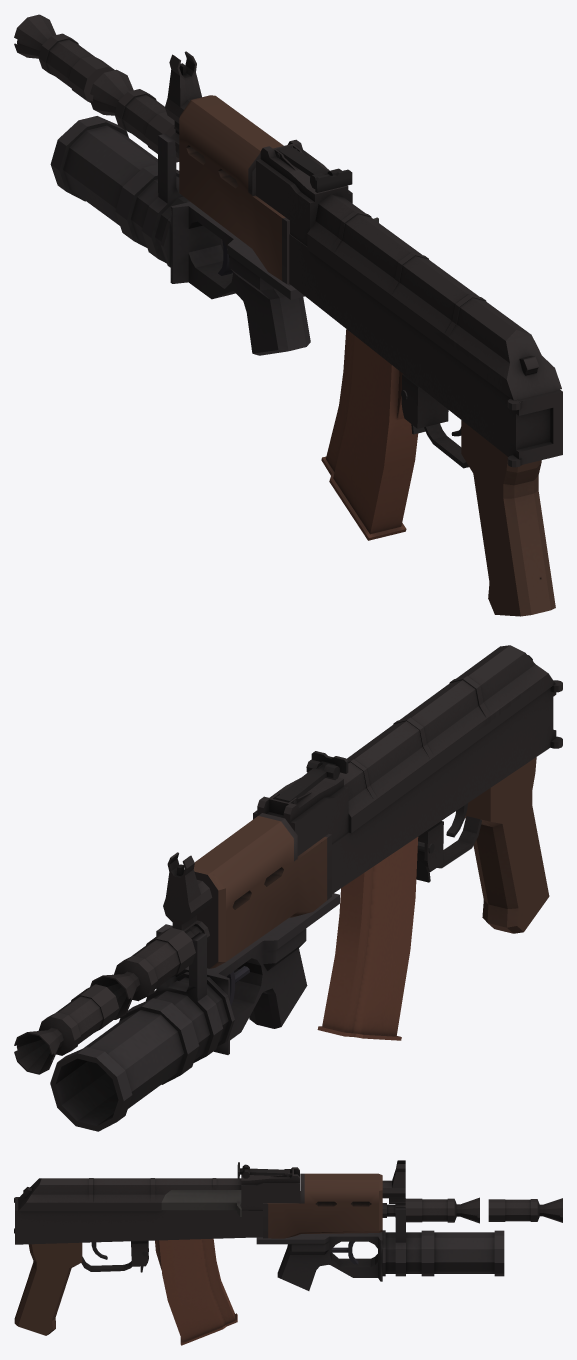
The model's file is AK_Carbine.fbx.
3 views of the same model, one above another, from view 1: azimuth 30°, elevation 25°; view 2: azimuth 150°, elevation 25°; view 3: azimuth 270°, elevation 25° (orthographic). The views are drawn at different scales.
Parts seen in each view (by area): view 1: Body, GP25_Carbine, Magazine_mid_Bakelite, Handguard_Carbine, Grip, Muzzle_Brake_Para, Muzzle_Brake_Carbine, Barrel_Carbine, Ironsights; view 2: Body, GP25_Carbine, Magazine_mid_Bakelite, Handguard_Carbine, Grip, Muzzle_Brake_Para, Muzzle_Brake_Carbine, Barrel_Carbine, Ironsights; view 3: Body, GP25_Carbine, Handguard_Carbine, Magazine_mid_Bakelite, Grip, Bolt, Muzzle_Brake_Carbine, Muzzle_Brake_Para, Barrel_Carbine, Ironsights.
Part boxes in pixels (left/top/right/bottom): Body: left=256, top=139, right=562, bottom=468; GP25_Carbine: left=50, top=116, right=310, bottom=355; Magazine_mid_Bakelite: left=321, top=329, right=418, bottom=540; Handguard_Carbine: left=179, top=95, right=290, bottom=285; Grip: left=461, top=420, right=555, bottom=616; Muzzle_Brake_Para: left=14, top=14, right=114, bottom=102; Muzzle_Brake_Carbine: left=90, top=69, right=179, bottom=162; Barrel_Carbine: left=165, top=51, right=201, bottom=158; Ironsights: left=276, top=147, right=352, bottom=192; Body: left=253, top=645, right=562, bottom=893; GP25_Carbine: left=50, top=893, right=339, bottom=1131; Magazine_mid_Bakelite: left=317, top=837, right=418, bottom=1040; Handguard_Carbine: left=193, top=813, right=331, bottom=968; Grip: left=456, top=757, right=549, bottom=933; Muzzle_Brake_Para: left=14, top=984, right=118, bottom=1074; Muzzle_Brake_Carbine: left=90, top=927, right=195, bottom=1019; Barrel_Carbine: left=163, top=852, right=212, bottom=942; Ironsights: left=275, top=751, right=348, bottom=804; Body: left=14, top=1167, right=299, bottom=1271; GP25_Carbine: left=256, top=1207, right=504, bottom=1290; Handguard_Carbine: left=263, top=1173, right=382, bottom=1238; Magazine_mid_Bakelite: left=155, top=1238, right=237, bottom=1345; Grip: left=14, top=1242, right=82, bottom=1335; Bolt: left=161, top=1190, right=241, bottom=1216; Muzzle_Brake_Carbine: left=405, top=1197, right=479, bottom=1223; Muzzle_Brake_Para: left=488, top=1198, right=562, bottom=1222; Barrel_Carbine: left=382, top=1160, right=405, bottom=1217; Ironsights: left=237, top=1162, right=289, bottom=1178.
Size of the model in its own units: 5.01 by 18.93 by 52.69.
